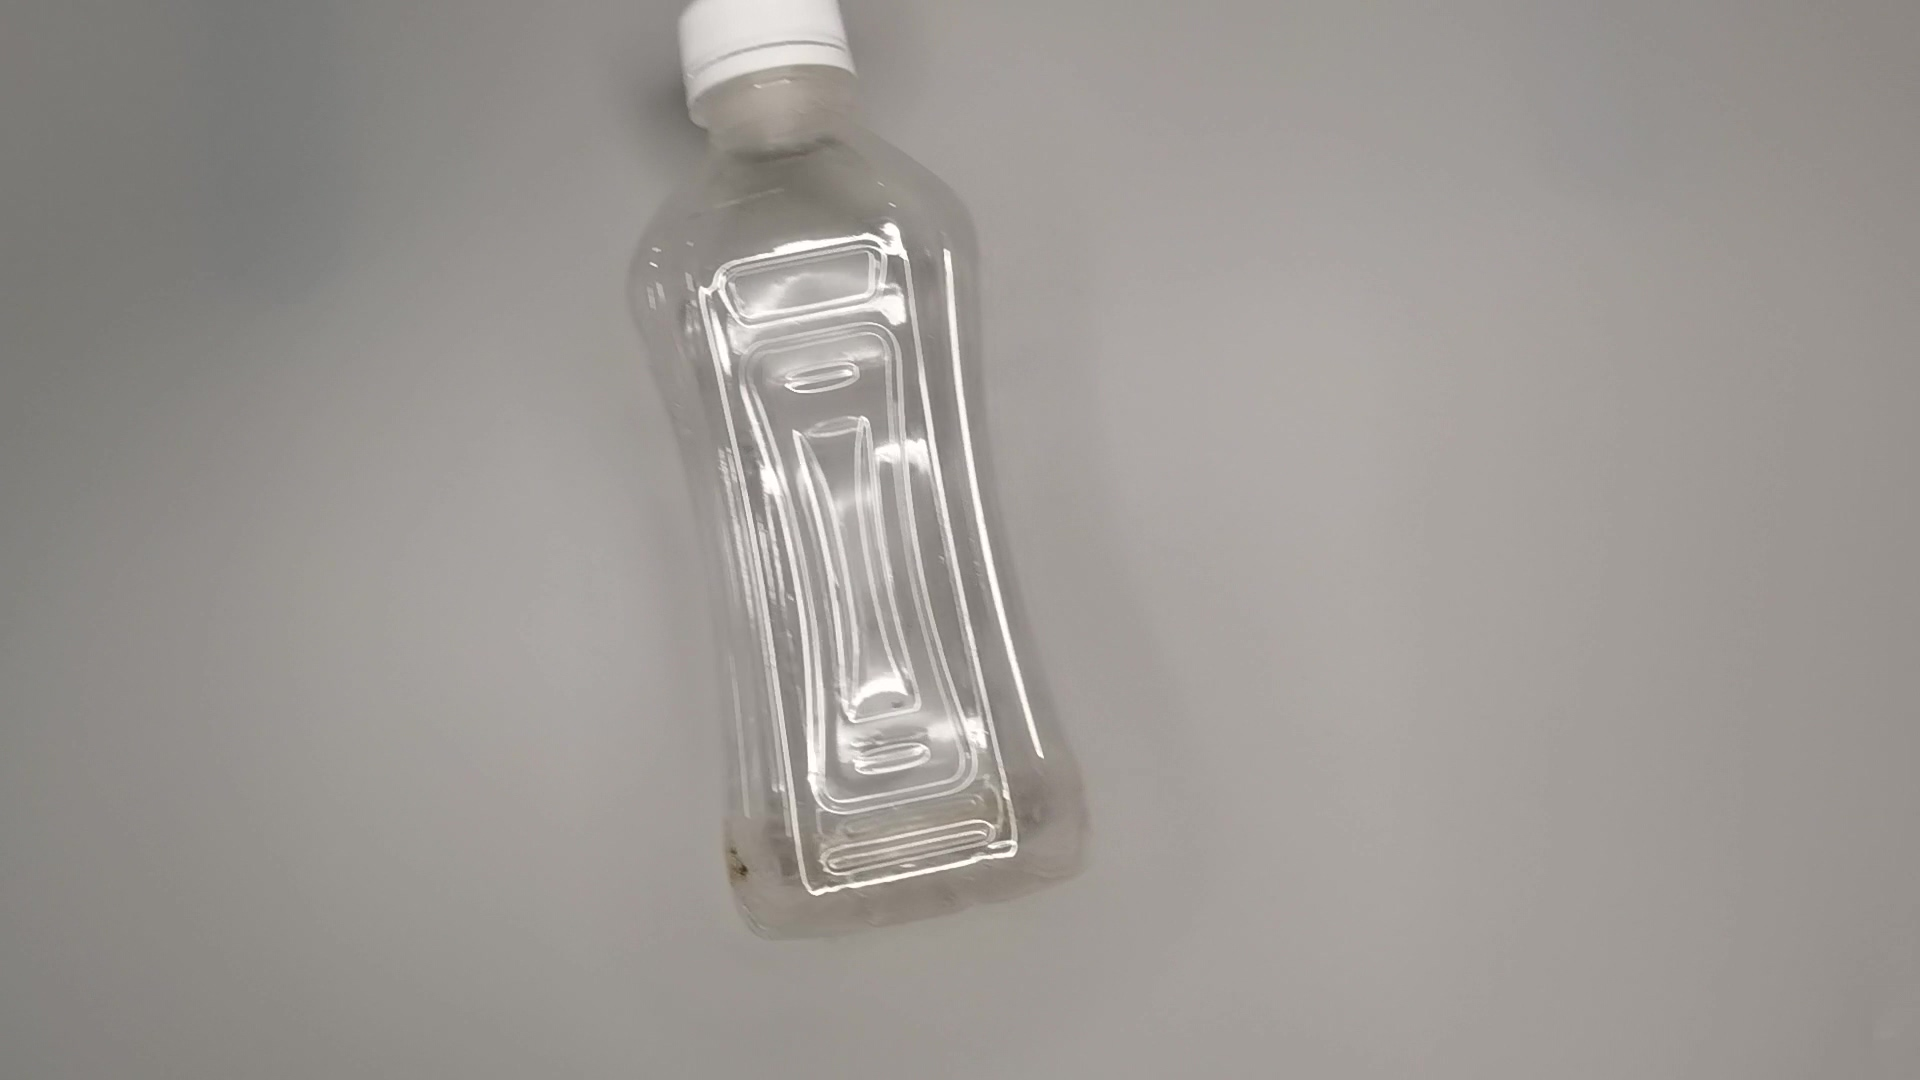bottle: (625, 1, 1098, 952)
